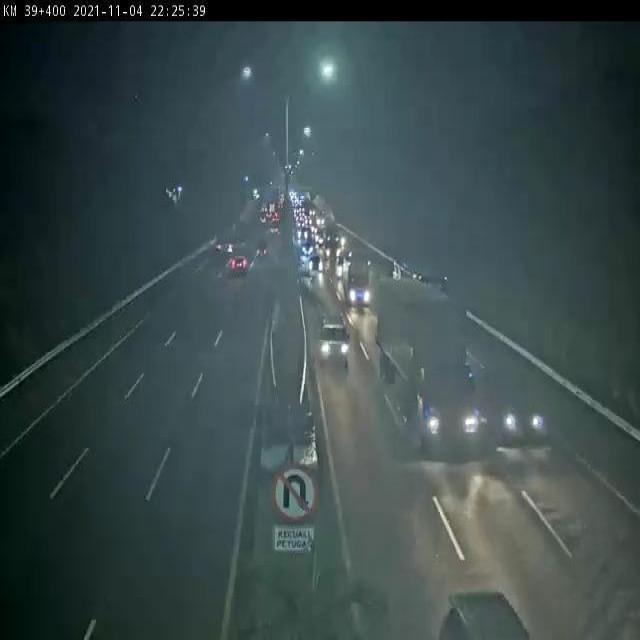car: (484, 355, 549, 449), (319, 316, 354, 375), (227, 251, 247, 277), (306, 255, 324, 273)
truck: (375, 271, 484, 457), (341, 256, 373, 309)
